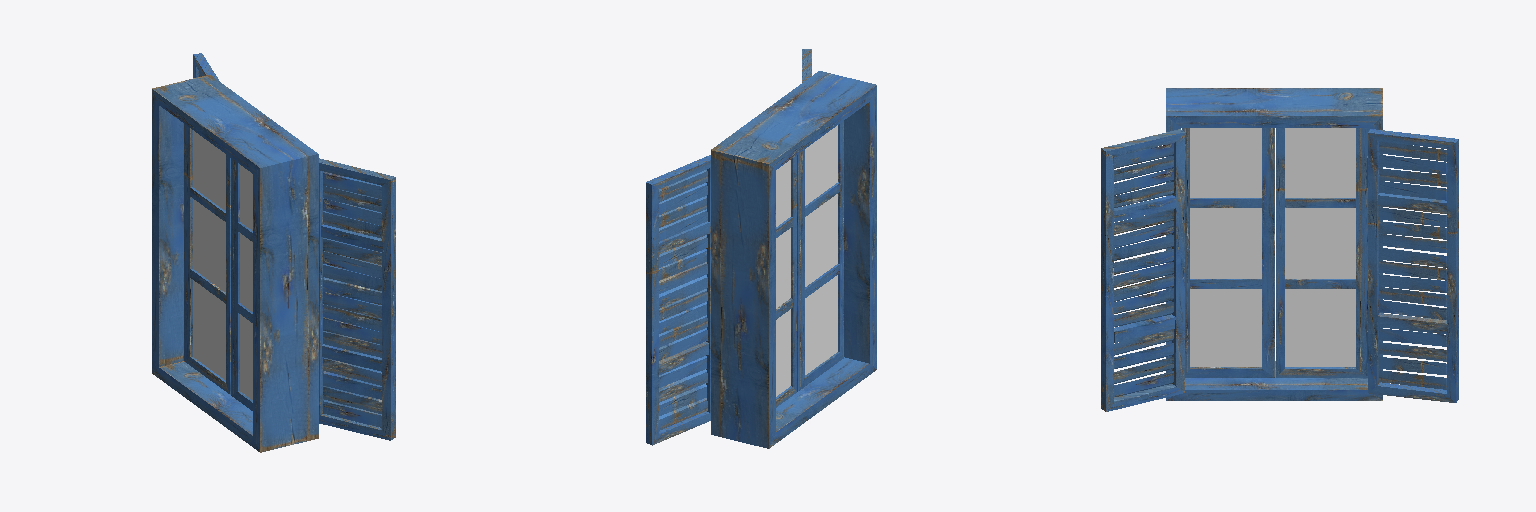
3 views of the same model, side by side, from view 1: azimuth 30°, elevation 25°; view 2: azimuth 150°, elevation 25°; view 3: azimuth 270°, elevation 25° (orthographic).
Parts seen in each view (by area): view 1: Rectangle02, Rectangle03, Box02, Rectangle05, Box01, Rectangle01; view 2: Rectangle02, Rectangle04, Box01, Rectangle01, Box02, Rectangle05; view 3: Rectangle04, Rectangle03, Box01, Box02, Rectangle02, Rectangle05, Rectangle01.
Boxes of the visible parts, box(x1,y1,x2,y2) form: Rectangle02: box(152, 75, 318, 452); Rectangle03: box(319, 158, 395, 440); Box02: box(193, 130, 225, 380); Rectangle05: box(184, 124, 230, 394); Box01: box(240, 165, 252, 399); Rectangle01: box(231, 158, 252, 410); Rectangle02: box(711, 71, 876, 448); Rectangle04: box(646, 155, 710, 445); Box01: box(805, 125, 837, 374); Rectangle01: box(797, 121, 843, 391); Box02: box(776, 160, 790, 396); Rectangle05: box(776, 155, 796, 407); Rectangle04: box(1368, 129, 1458, 402); Rectangle03: box(1101, 129, 1184, 411); Box01: box(1190, 128, 1261, 366); Box02: box(1285, 128, 1355, 366); Rectangle02: box(1166, 88, 1382, 400); Rectangle05: box(1276, 128, 1368, 377); Rectangle01: box(1182, 128, 1274, 377).
Size of the model in its own units: 0.6188 by 1.6 by 1.82.
3 materials, 1 textured.